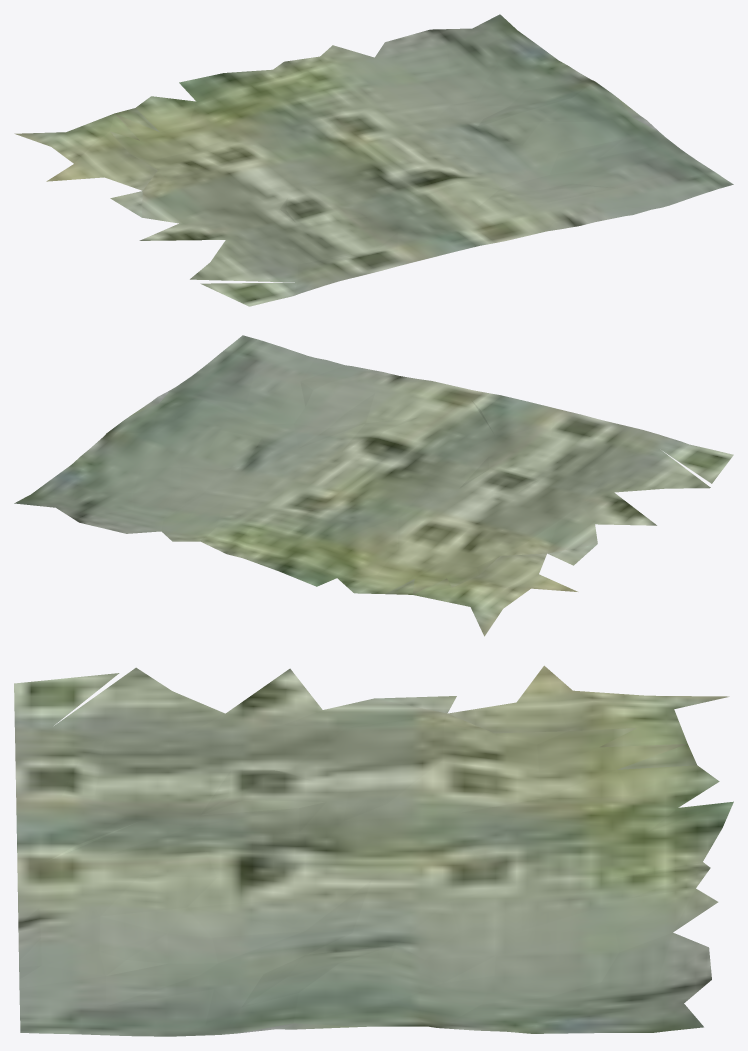
Rendered from Tile_002_001_L14_333.glb.
The picture shows the model from 3 angles, top to bottom: view 1: azimuth 30°, elevation 25°; view 2: azimuth 150°, elevation 25°; view 3: azimuth 270°, elevation 25°; orthographic projection. The views are drawn at different scales.
Visible parts, largest first — view 1: rtc; view 2: rtc; view 3: rtc.
Part boxes in pixels (bbox=[...]): rtc: bbox=[14, 14, 733, 306]; rtc: bbox=[14, 335, 733, 636]; rtc: bbox=[14, 665, 733, 1036].
Size of the model in its own units: 24.76 by 0.8308 by 20.37.
1 material, 1 textured.
